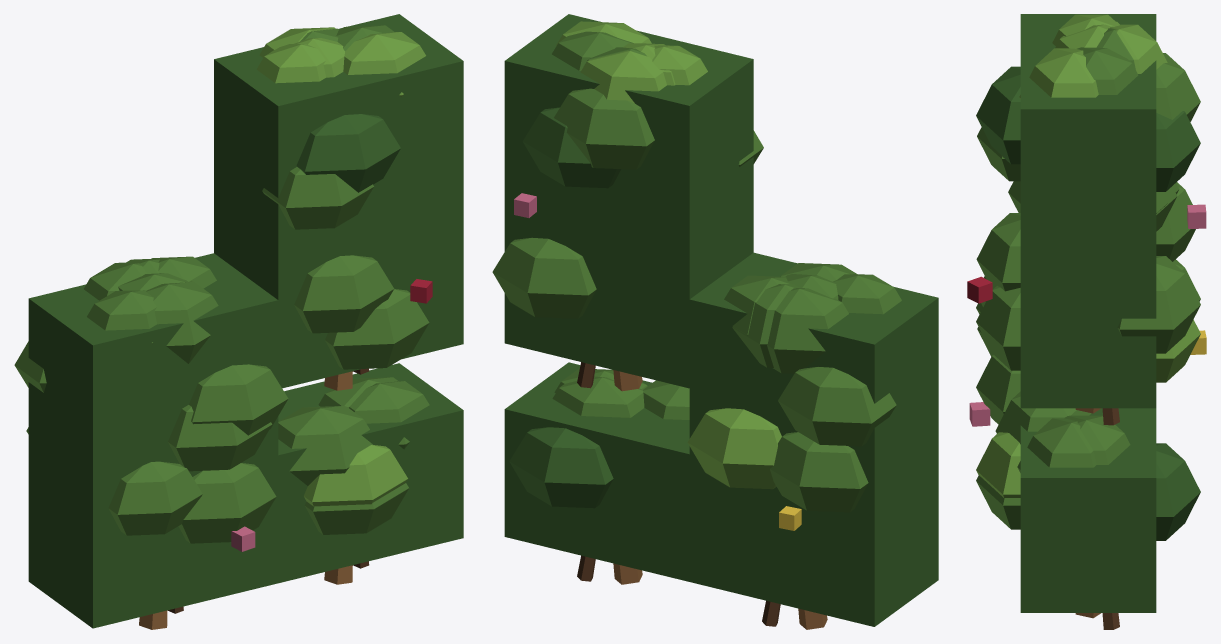
Rendered from hedge_step.glb.
3 renders of one model, left to right at view 1: azimuth 30°, elevation 25°; view 2: azimuth 150°, elevation 25°; view 3: azimuth 270°, elevation 25°, orthographic. The views are drawn at different scales.
Visible parts, largest first — view 1: wall_hedge_step; view 2: wall_hedge_step; view 3: wall_hedge_step.
Boxes of the visible parts, left/top/right/bottom form: wall_hedge_step: left=14, top=14, right=463, bottom=629; wall_hedge_step: left=492, top=14, right=938, bottom=629; wall_hedge_step: left=967, top=14, right=1206, bottom=629.
Bounding box in the file's own units: 2.05 × 2.81 × 1.06.
